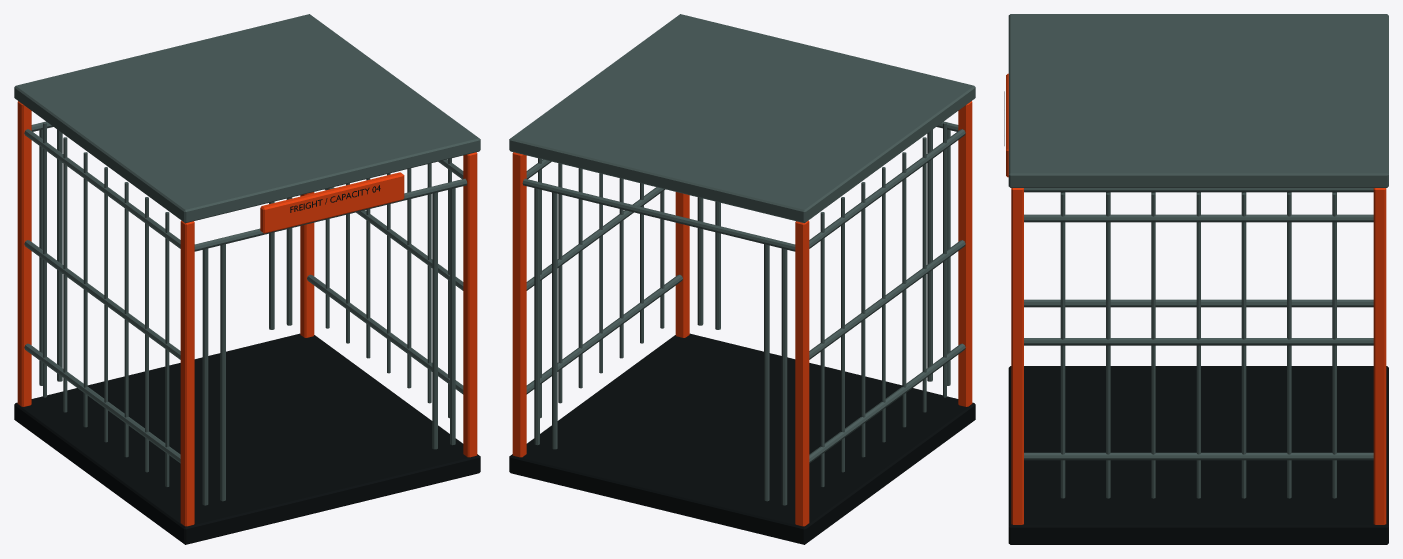
The model's file is SM_MP_Freight_Cage.fbx.
The picture shows the model from 3 angles, left to right: view 1: azimuth 30°, elevation 25°; view 2: azimuth 150°, elevation 25°; view 3: azimuth 270°, elevation 25°; orthographic projection. The views are drawn at different scales.
Parts seen in each view (by area): view 1: SM_MP_Freight_Cage; view 2: SM_MP_Freight_Cage; view 3: SM_MP_Freight_Cage.
Part boxes in pixels (left/top/right/bottom): SM_MP_Freight_Cage: left=14, top=14, right=480, bottom=544; SM_MP_Freight_Cage: left=509, top=14, right=975, bottom=544; SM_MP_Freight_Cage: left=1004, top=14, right=1388, bottom=544.
Size of the model in its own units: 420 by 425 by 453.
1 material, 1 textured.
